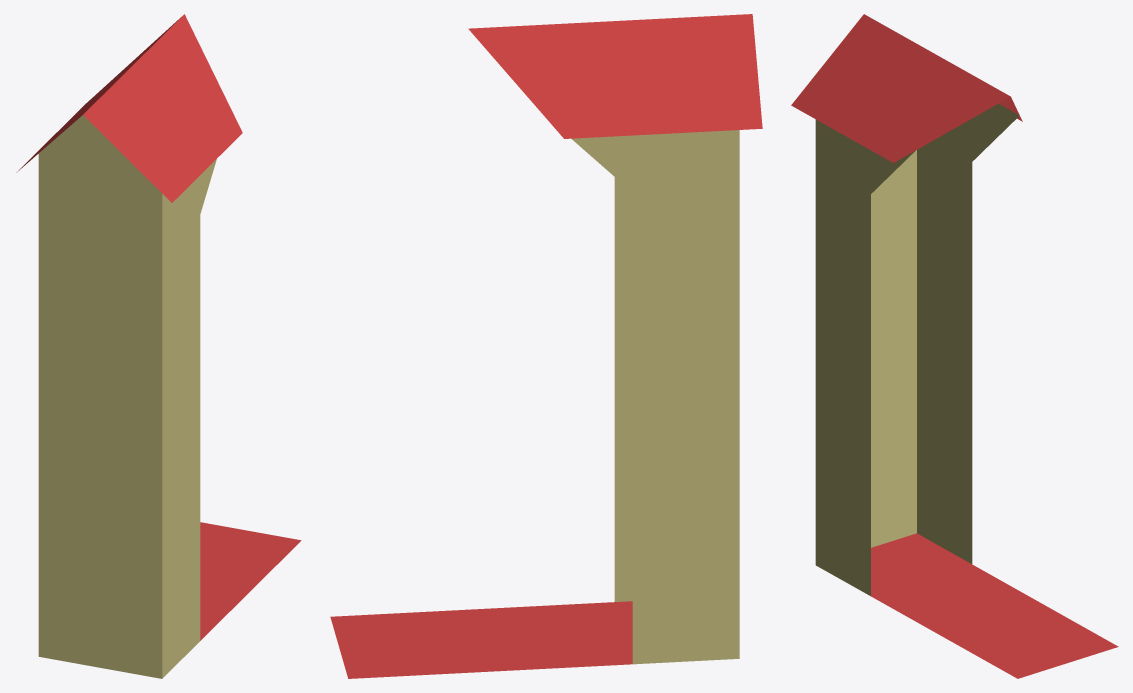
The picture shows the model from 3 angles, left to right: view 1: azimuth 30°, elevation 25°; view 2: azimuth 150°, elevation 25°; view 3: azimuth 270°, elevation 25°; orthographic projection. The views are drawn at different scales.
Bounding box in the file's own units: 10.45 × 9.28 × 16.44.
